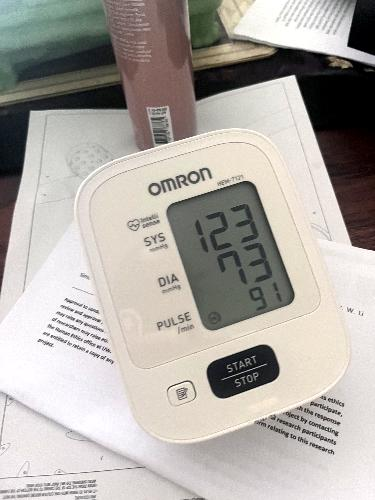bpm: (160, 173, 301, 337)
